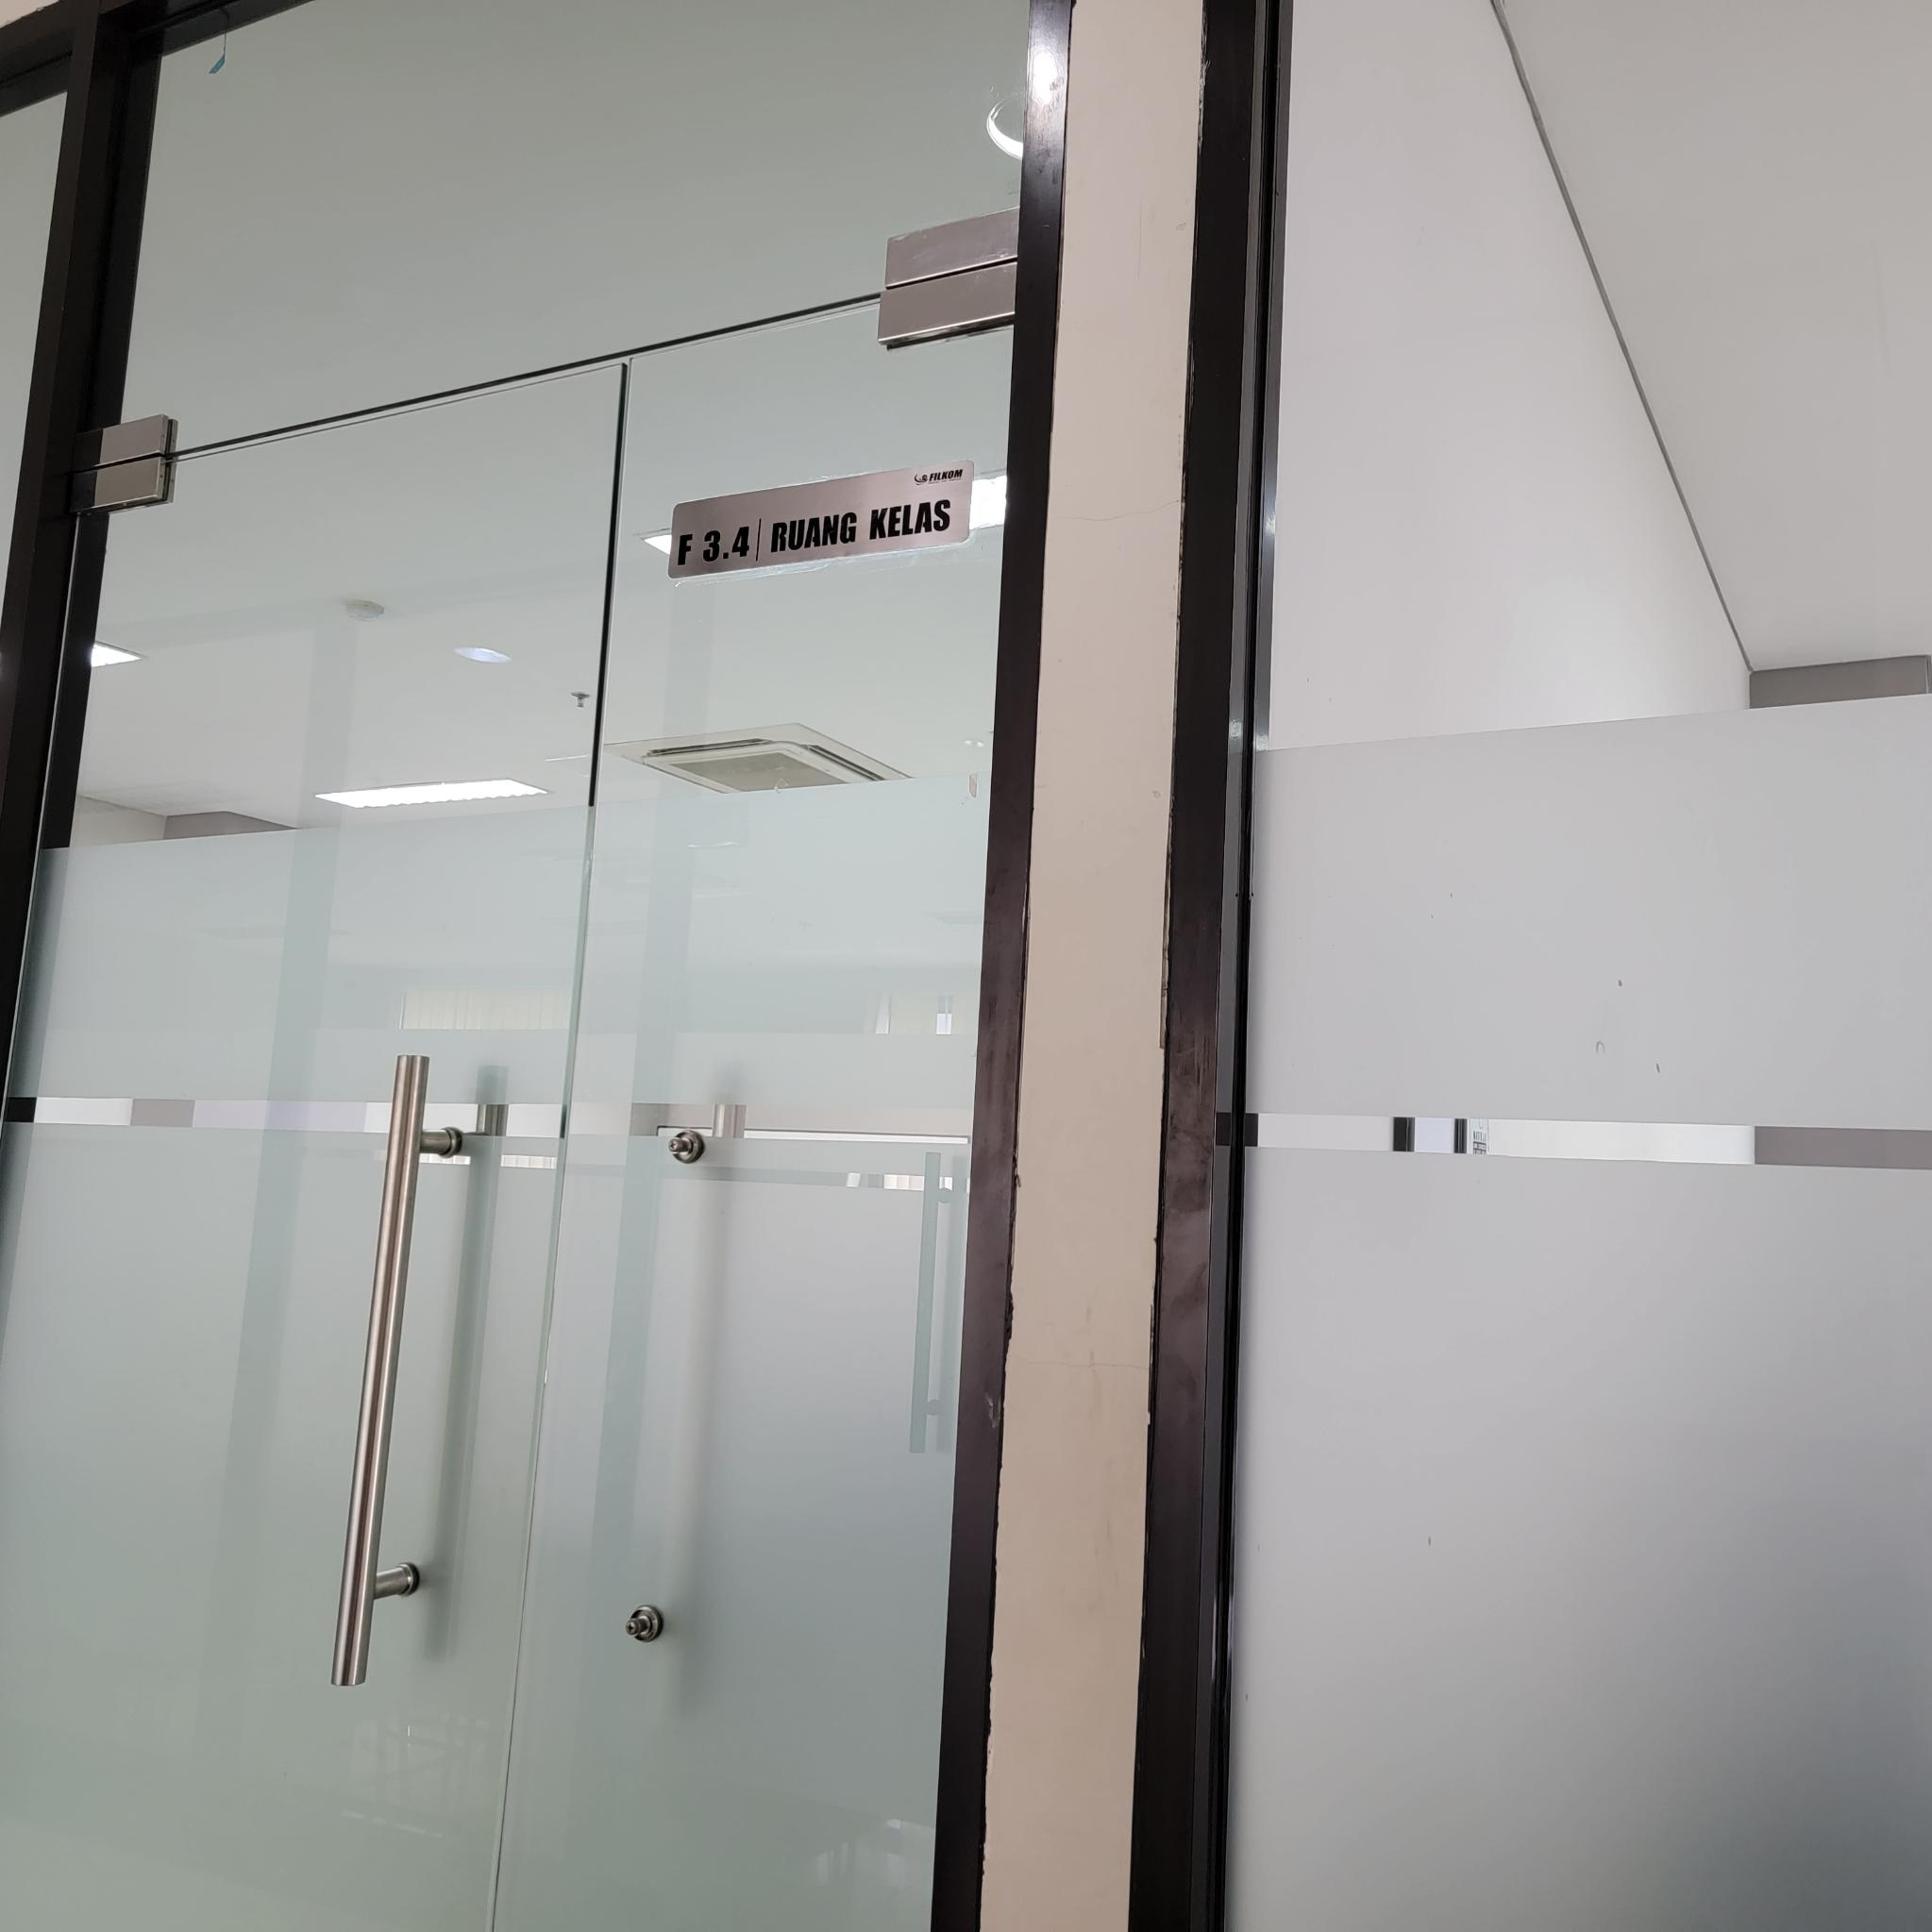plate: (669, 458, 977, 579)
